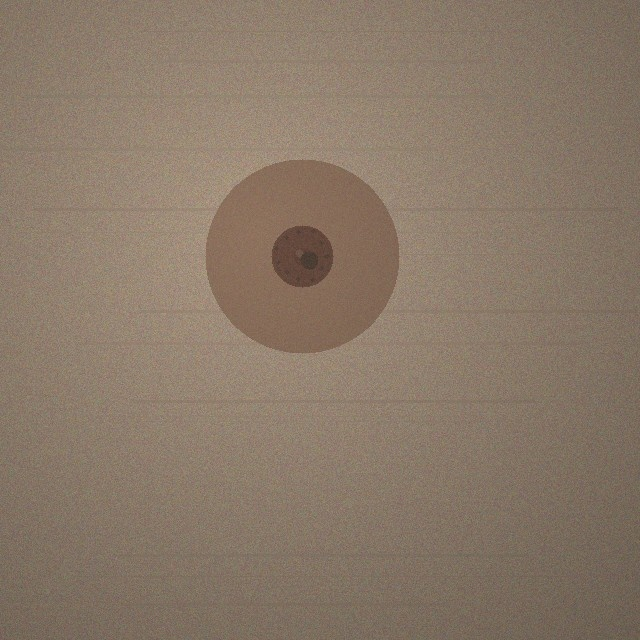cold_weld: (205, 159, 399, 353)
